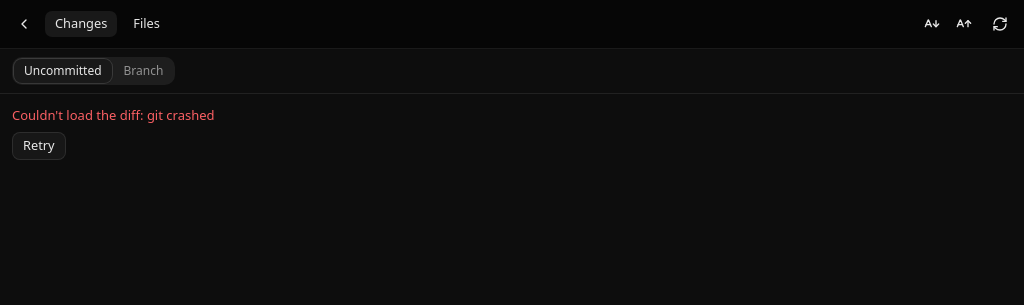
Scenario: DiffScreen › other errors offer a retry; back link goes to the conversation
Later steps or results of the test are not shown.
Expected: the text "Couldn't load the diff: git crashed" is shown, x1=12 y1=106 x2=214 y2=124
What coordinates should you click on to do the following:
click the button "Retry"
I would click on:
 (39, 146)
Its box is x1=12 y1=132 x2=66 y2=160.
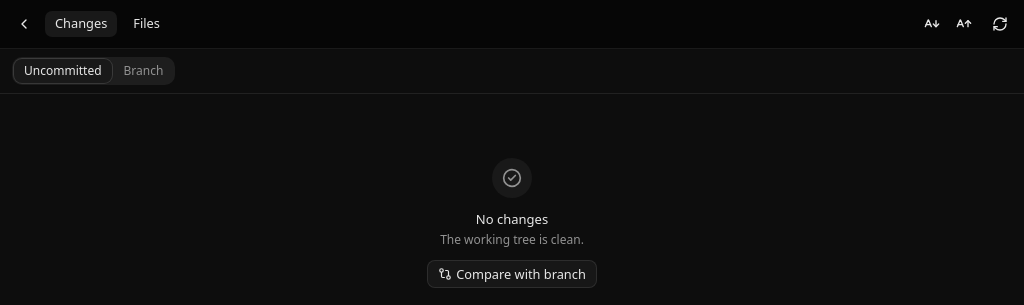
Result: the text "No changes" is shown at x1=476 y1=210 x2=548 y2=228
